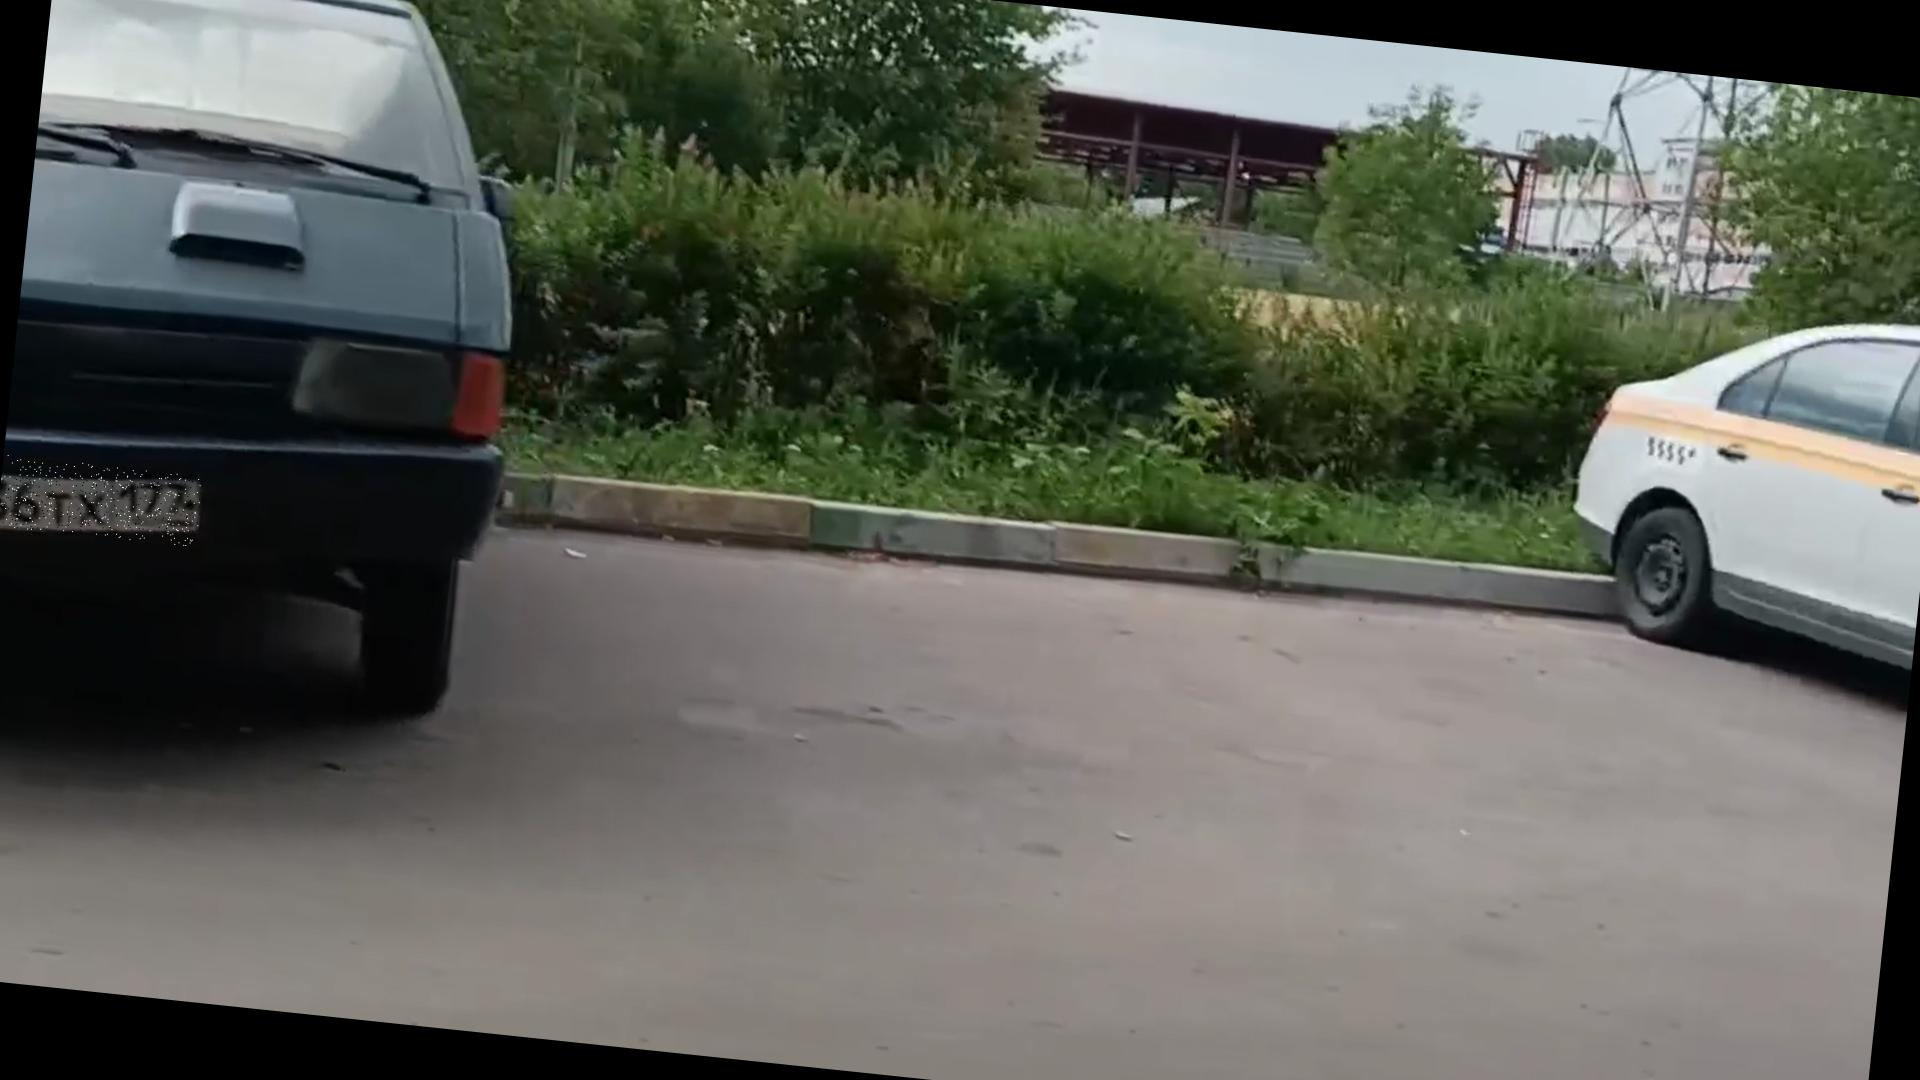plate: (1, 456, 205, 549)
